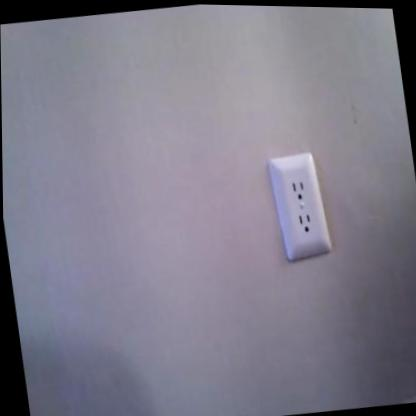OUTLET: (271, 150, 330, 262)
